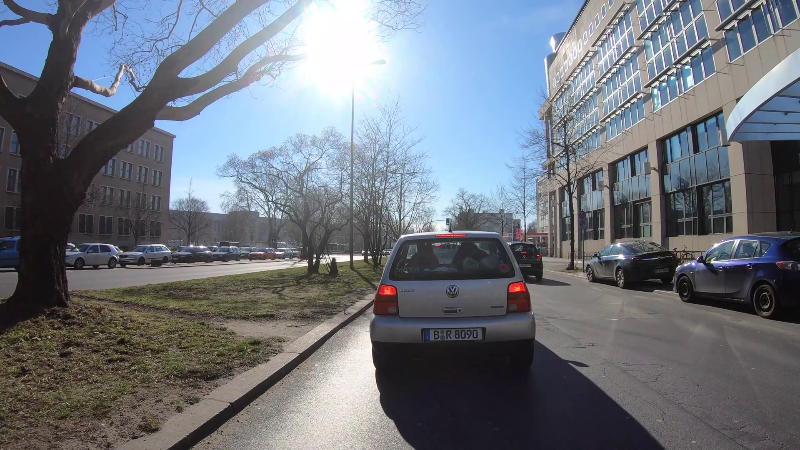Plate: (421, 325, 487, 340), (650, 266, 670, 273), (518, 261, 531, 268)
